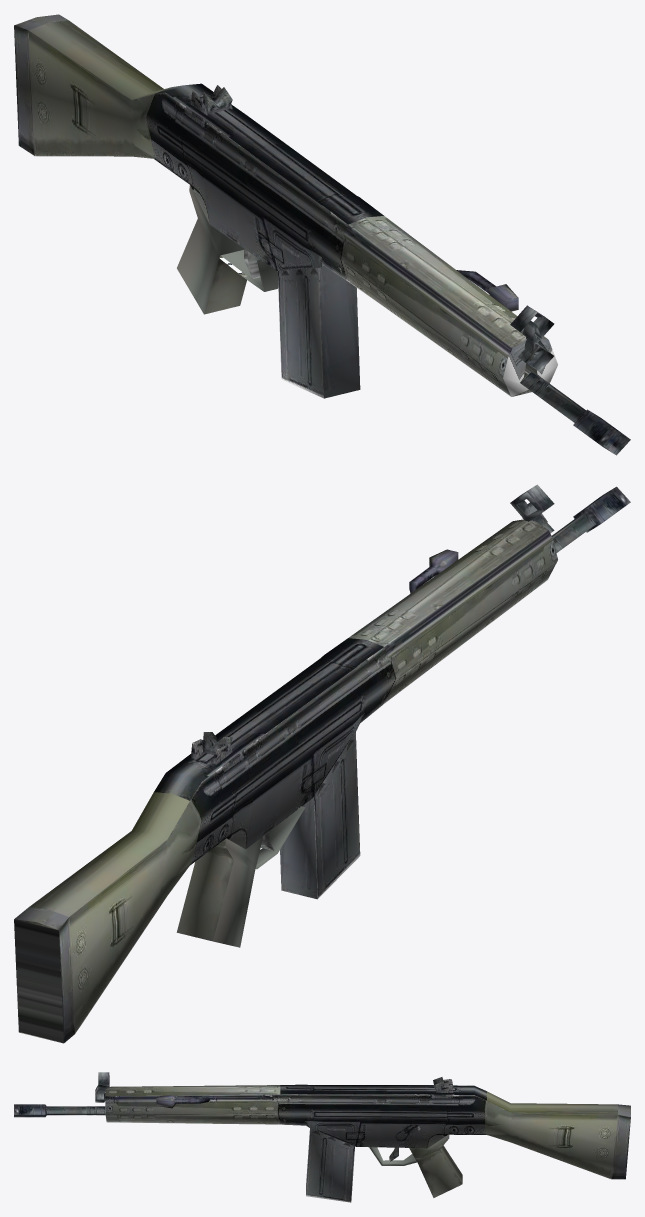
The picture shows the model from 3 angles, top to bottom: view 1: azimuth 30°, elevation 25°; view 2: azimuth 150°, elevation 25°; view 3: azimuth 270°, elevation 25°; orthographic projection. The views are drawn at different scales.
Parts seen in each view (by area): view 1: Ag3M; view 2: Ag3M; view 3: Ag3M.
Boxes of the visible parts, left/top/right/bottom form: Ag3M: left=14, top=14, right=630, bottom=455; Ag3M: left=14, top=484, right=630, bottom=1043; Ag3M: left=14, top=1072, right=630, bottom=1202.
Bounding box in the file's own units: 0.0849 × 0.2899 × 1.29.
Materials: 1 (1 with a texture image).
